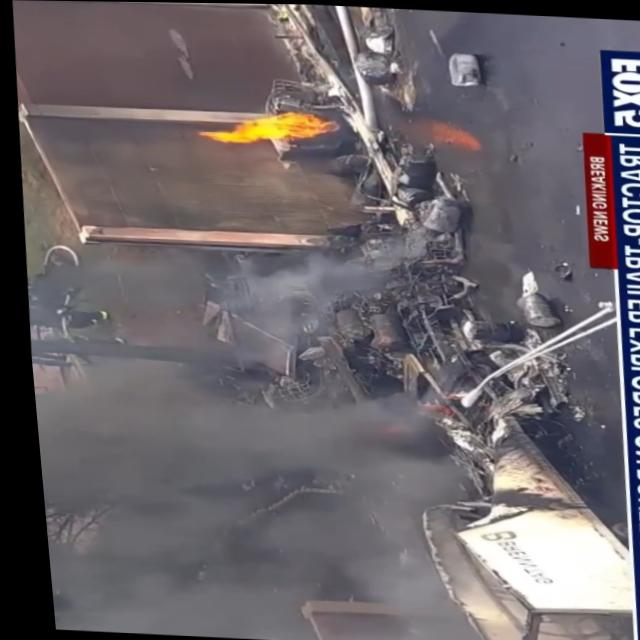Fire: (186, 101, 336, 154)
